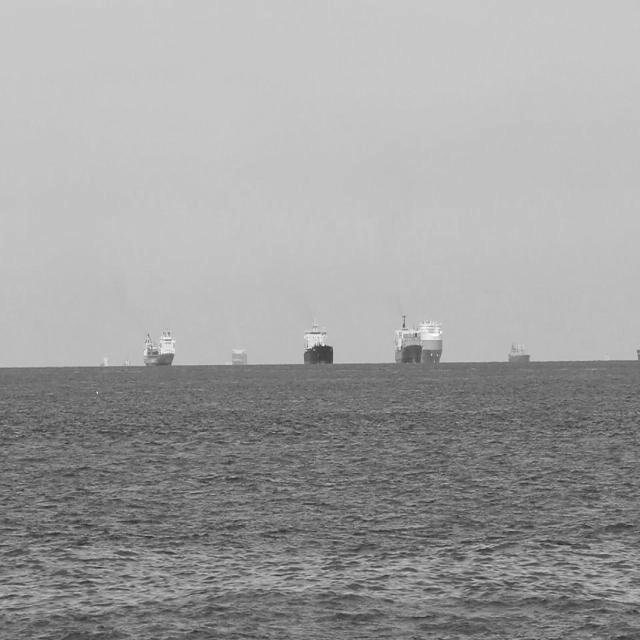ship: (391, 308, 422, 361), (302, 313, 334, 363), (140, 326, 178, 368), (422, 312, 442, 361), (506, 335, 530, 362), (229, 344, 249, 366), (99, 348, 112, 368), (122, 352, 132, 368)
